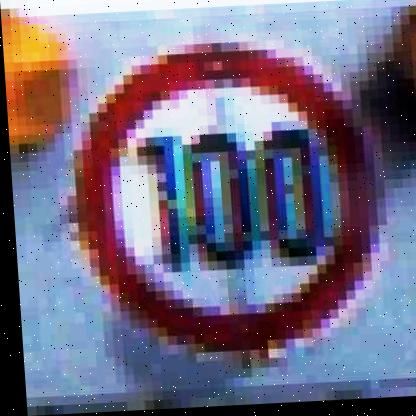Speed Limit -100-: (57, 37, 391, 373)
